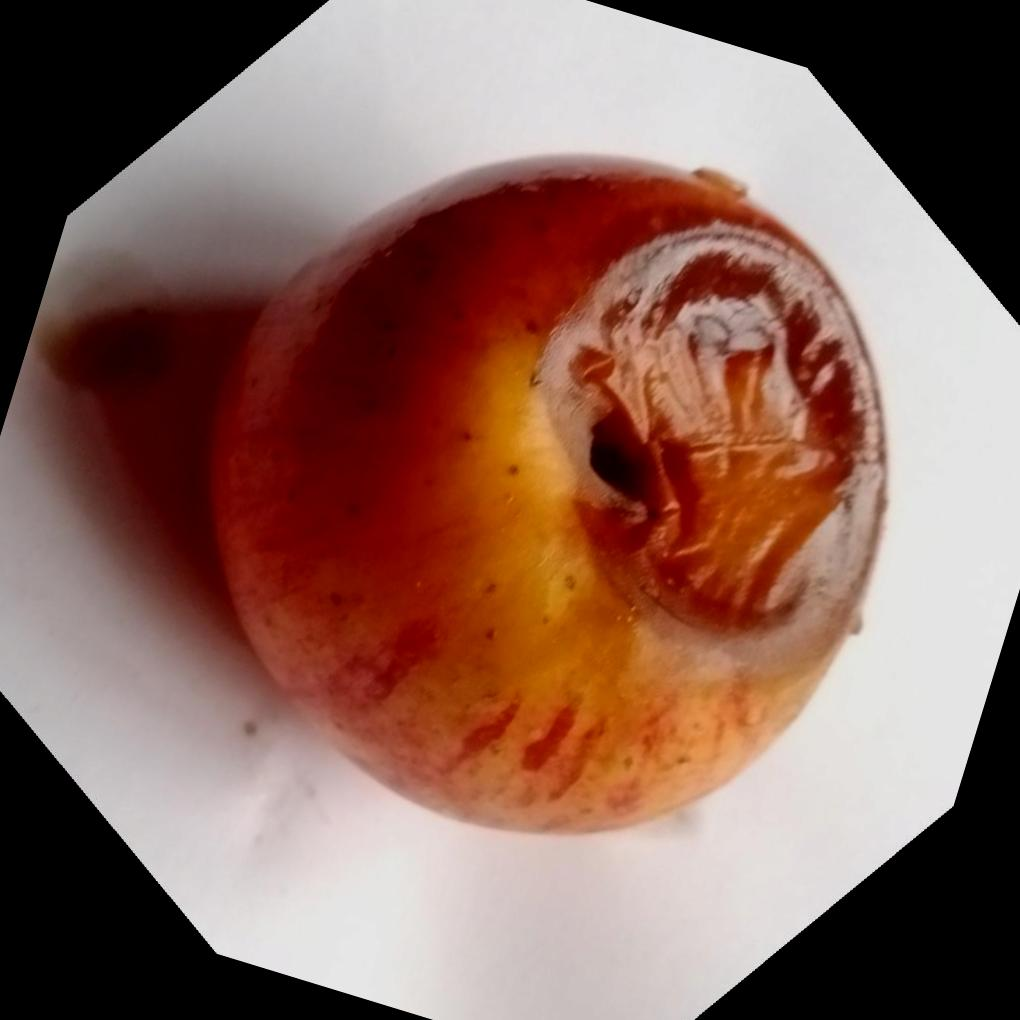FreshOrange: (203, 155, 889, 837)
